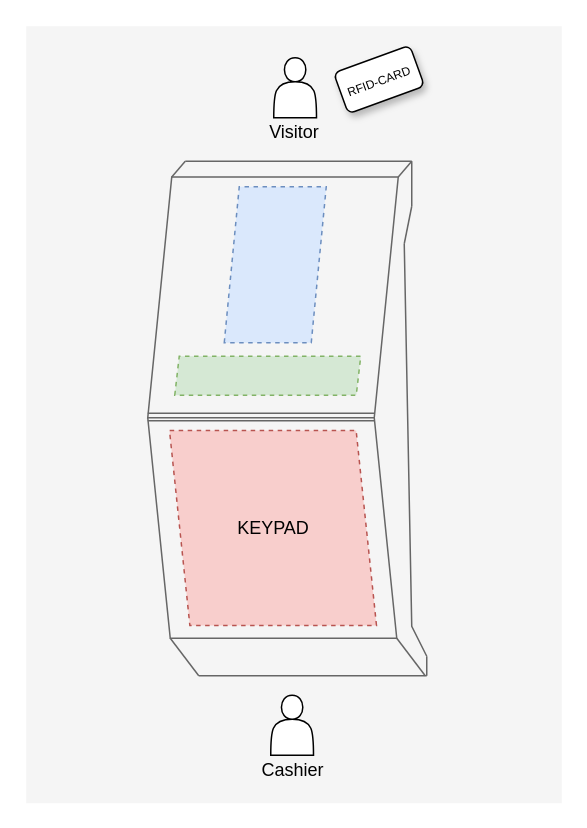
This 587x828 diagram has some shape labels left out. The centre of each missing label's shape, as x and y in pixels:
"DISPLAY" goes at [267,375].
"RFID" goes at [274,264].
